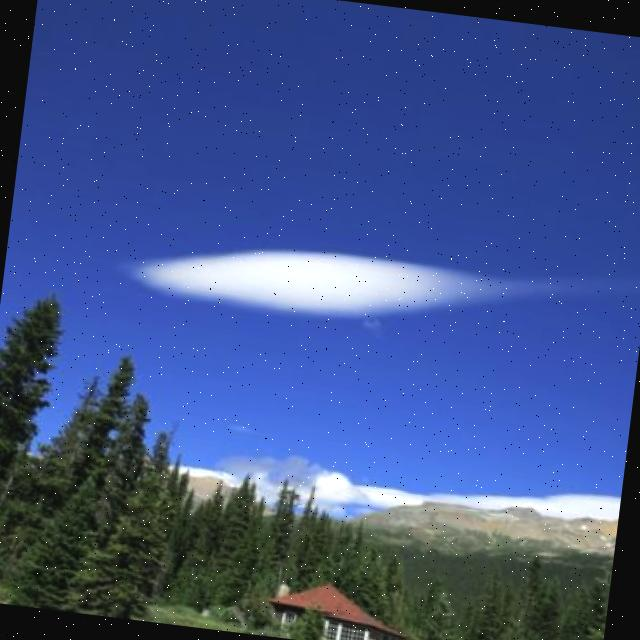Ac: (116, 200, 586, 367)
